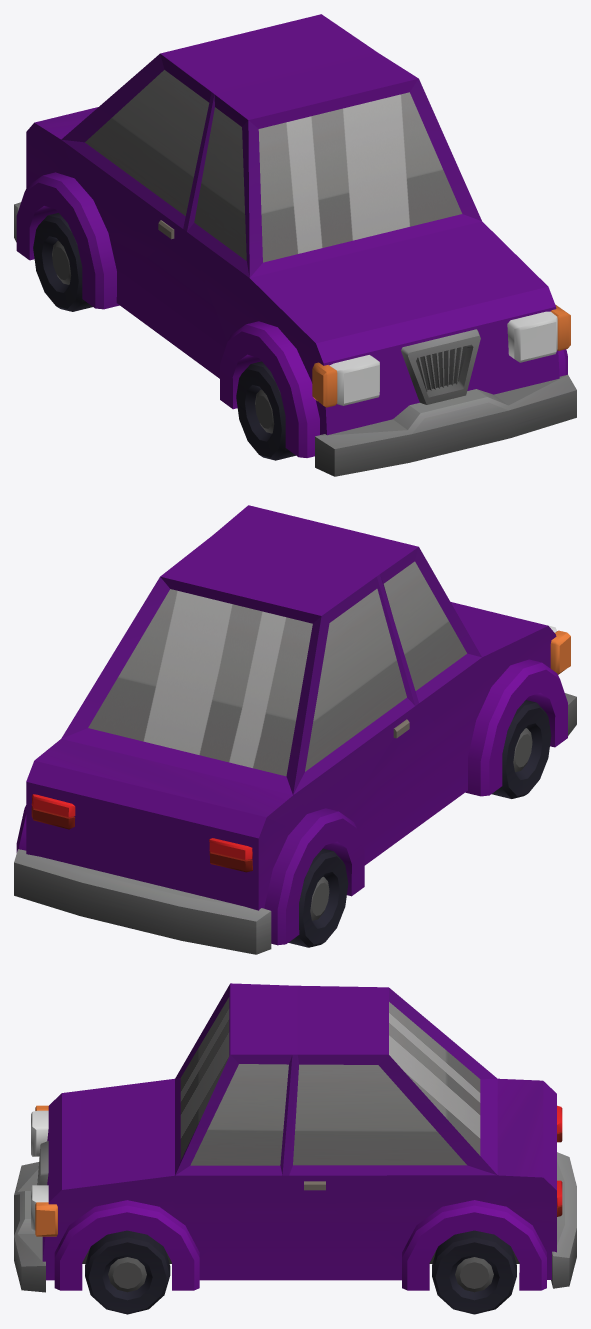
The model's file is Car_4_13.fbx.
3 views of the same model, one above another, from view 1: azimuth 30°, elevation 25°; view 2: azimuth 150°, elevation 25°; view 3: azimuth 270°, elevation 25° (orthographic). The views are drawn at different scales.
Visible parts, largest first — view 1: Car_4_13, BWhel_FR, BWhel_BR; view 2: Car_4_13, BWhel_BR, BWhel_FR; view 3: Car_4_13, BWhel_FL, BWhel_BL.
Part boxes in pixels (x1=…): Car_4_13: x1=14, y1=14, x2=576, y2=476; BWhel_FR: x1=236, y1=361, x2=295, y2=460; BWhel_BR: x1=33, y1=212, x2=92, y2=311; Car_4_13: x1=14, y1=505, x2=576, y2=954; BWhel_BR: x1=288, y1=848, x2=348, y2=947; BWhel_FR: x1=491, y1=700, x2=551, y2=798; Car_4_13: x1=14, y1=983, x2=576, y2=1292; BWhel_FL: x1=85, y1=1230, x2=170, y2=1314; BWhel_BL: x1=432, y1=1230, x2=516, y2=1314.
Size of the model in its own units: 109 by 109 by 230.
